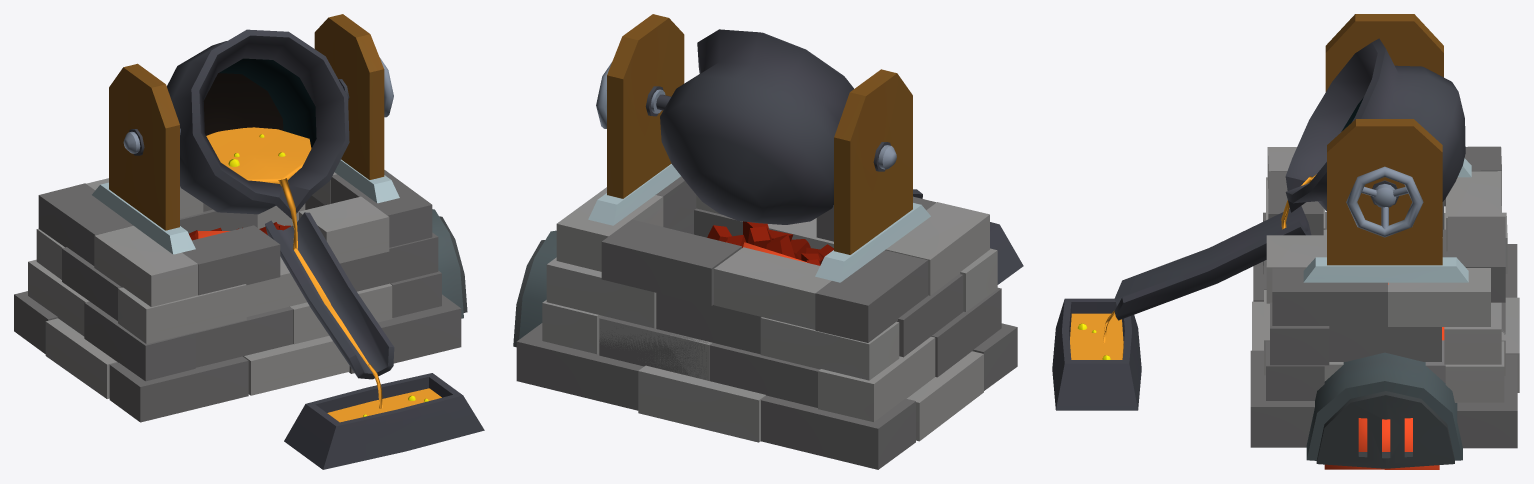
The model's file is Smeltery.fbx.
3 renders of one model, left to right at view 1: azimuth 30°, elevation 25°; view 2: azimuth 150°, elevation 25°; view 3: azimuth 270°, elevation 25°, orthographic. The views are drawn at different scales.
Visible parts, largest first — view 1: Base, Pot, MetalBox, LiquidMetal, LiquidMetal.001; view 2: Base, Pot, Magma, MetalBox, Door.001; view 3: Base, Pot, Door.001, MetalBox, LiquidMetal.001, Magma.
Part boxes in pixels (x1=…): Base: x1=14, y1=14, x2=463, y2=422; Pot: x1=167, y1=29, x2=349, y2=218; MetalBox: x1=284, y1=373, x2=484, y2=469; LiquidMetal: x1=206, y1=127, x2=382, y2=408; LiquidMetal.001: x1=327, y1=388, x2=441, y2=422; Base: x1=516, y1=14, x2=1017, y2=469; Pot: x1=660, y1=29, x2=853, y2=224; Magma: x1=707, y1=221, x2=833, y2=265; MetalBox: x1=990, y1=222, x2=1023, y2=284; Door.001: x1=513, y1=240, x2=544, y2=347; Base: x1=1114, y1=14, x2=1519, y2=460; Pot: x1=1285, y1=38, x2=1465, y2=212; Door.001: x1=1316, y1=391, x2=1454, y2=468; MetalBox: x1=1052, y1=298, x2=1141, y2=410; LiquidMetal.001: x1=1070, y1=313, x2=1123, y2=359; Magma: x1=1324, y1=283, x2=1444, y2=469.
Bounding box in the file's own units: 126 × 101 × 132.
